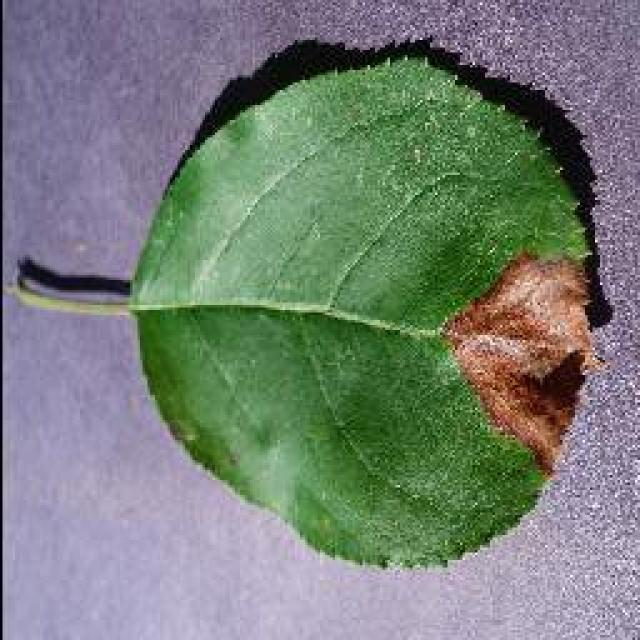black_rot: (425, 236, 608, 482)
